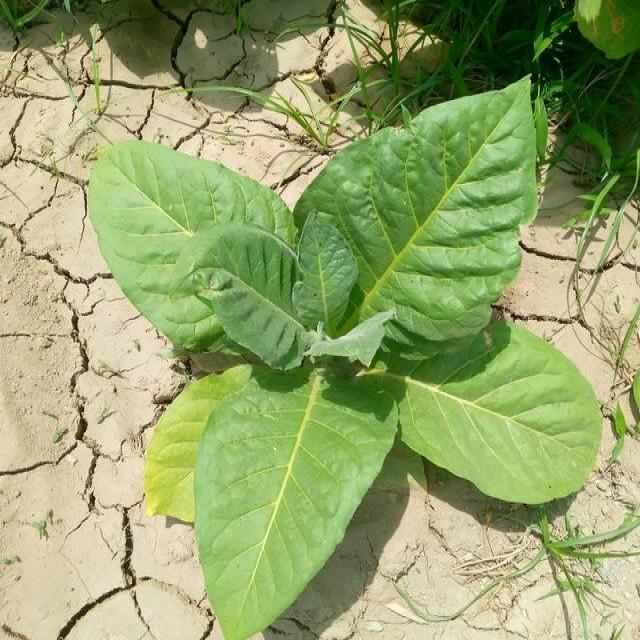crop: (97, 78, 587, 638)
